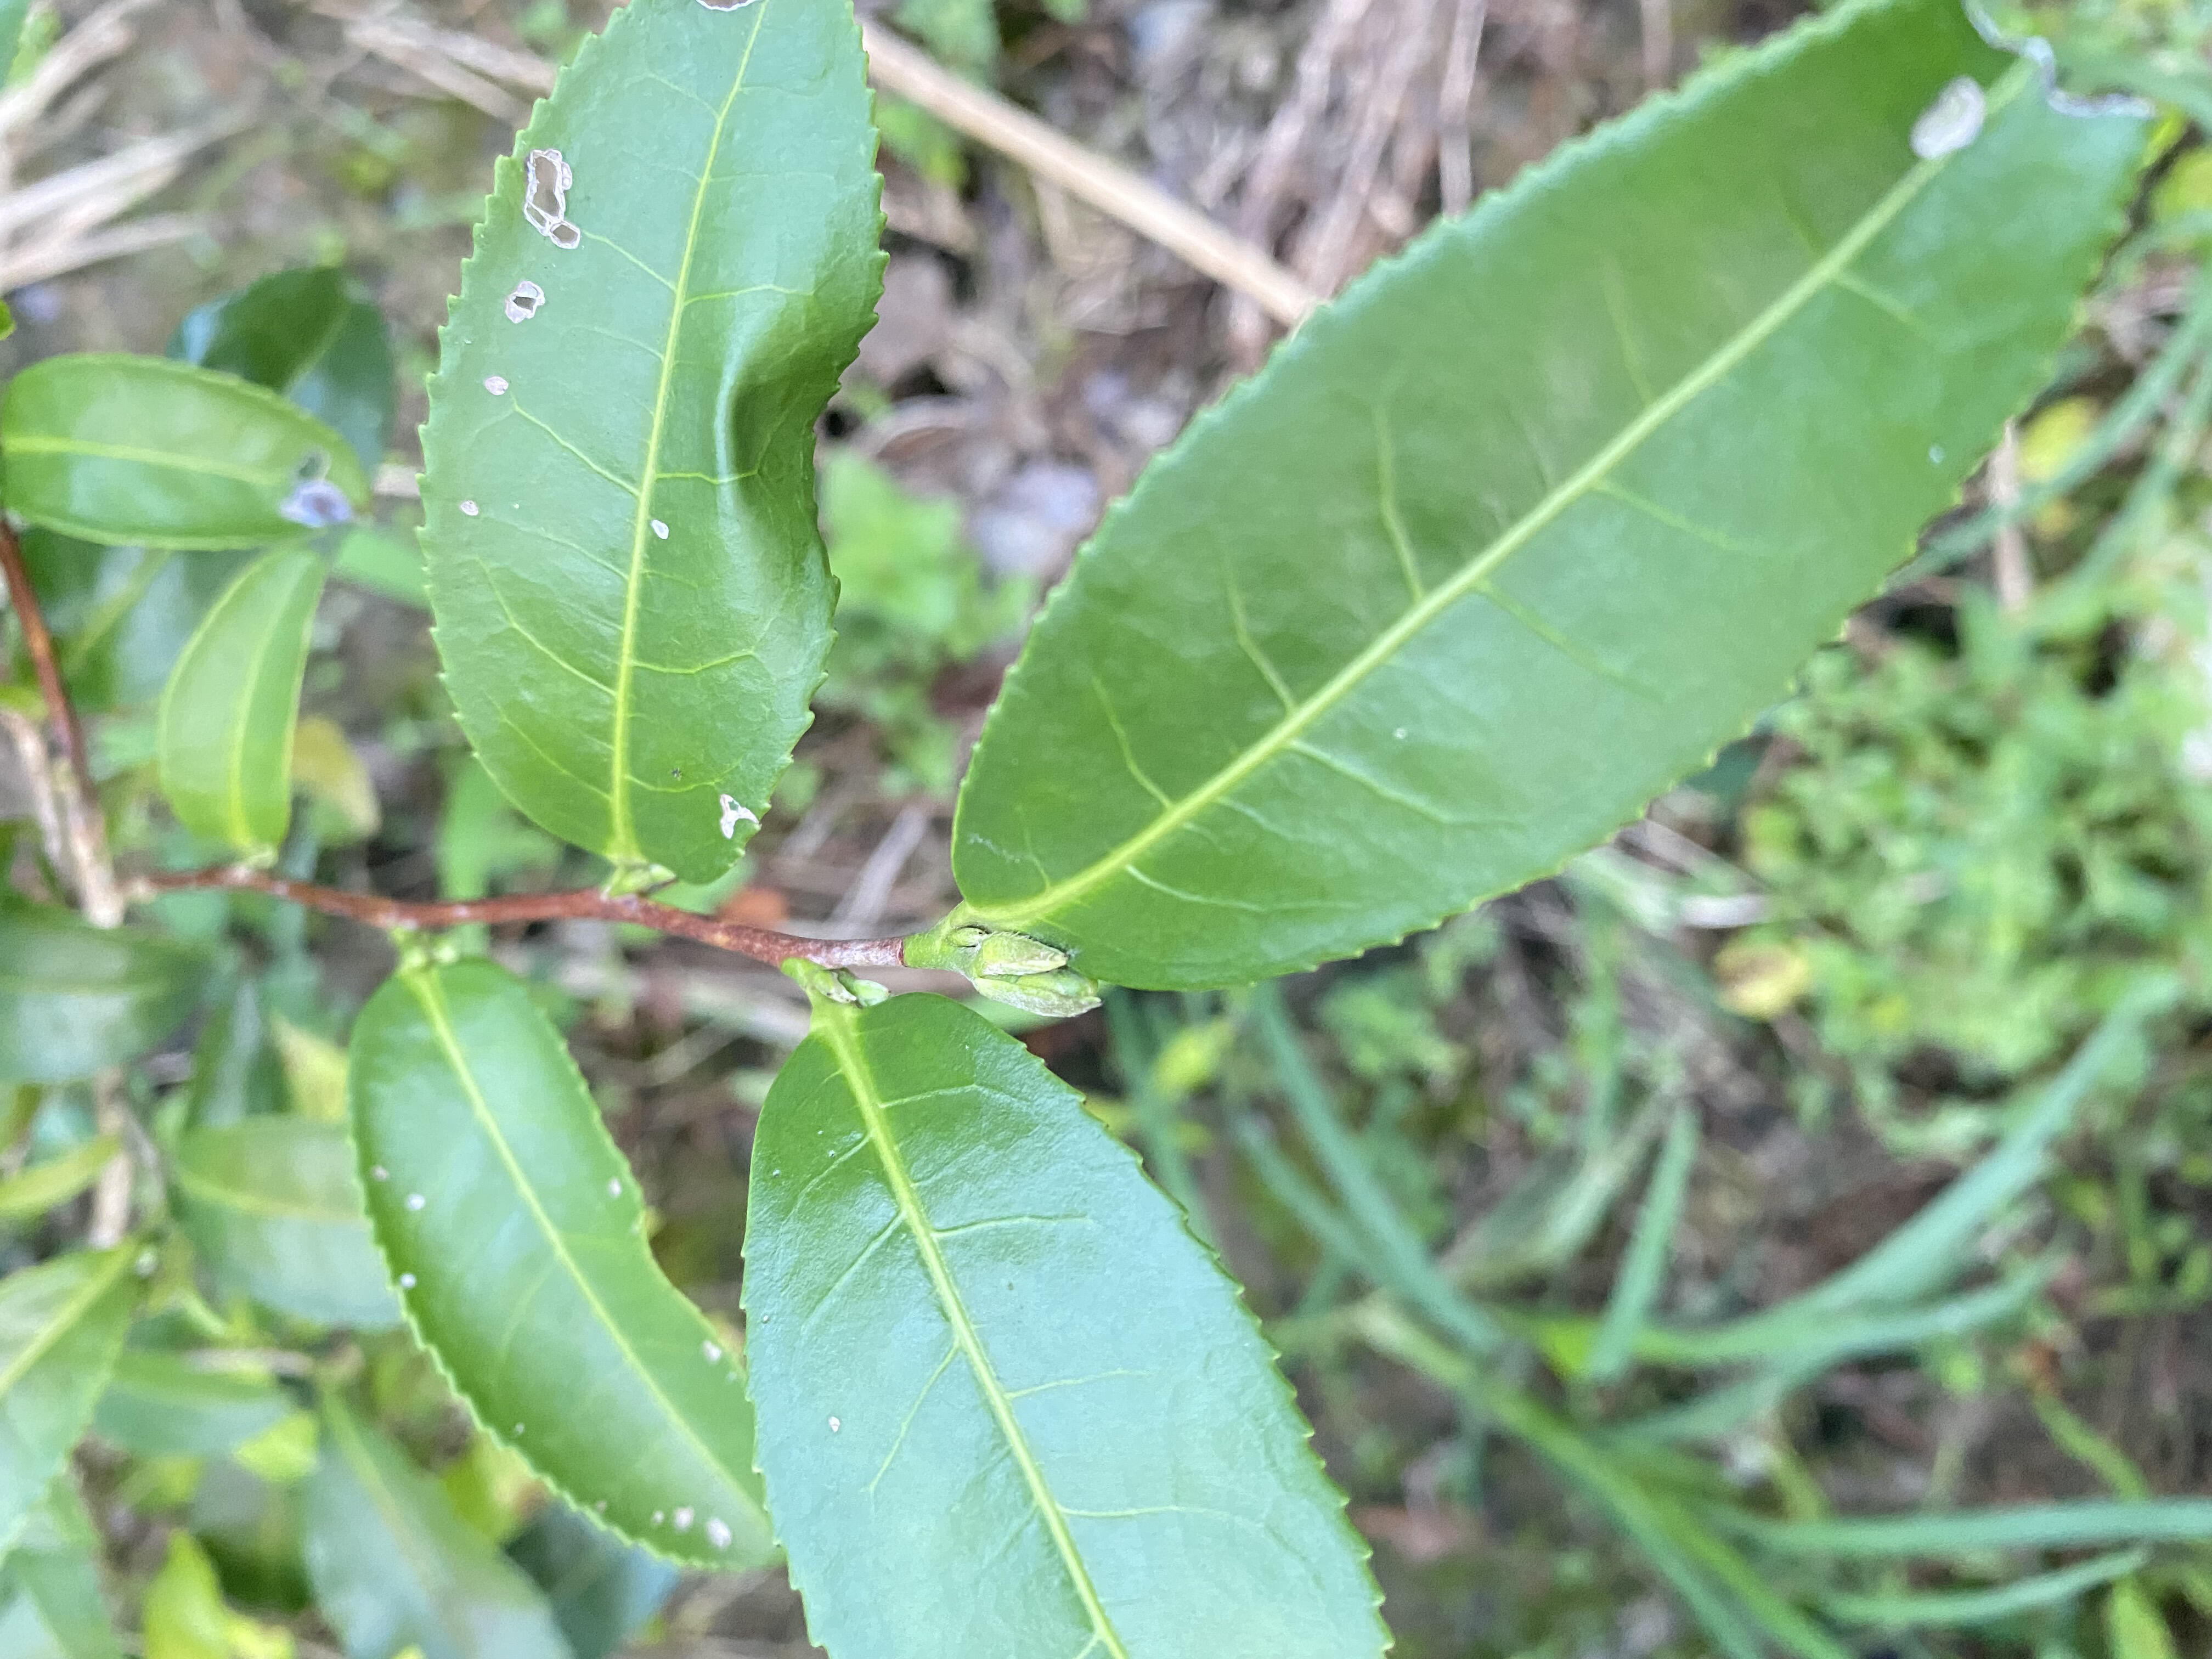chihuo_high: (415, 2, 892, 892)
chihuo_low: (953, 5, 2170, 997)
healthy: (744, 993, 1407, 1656)
tanju_low: (347, 960, 779, 1568)
